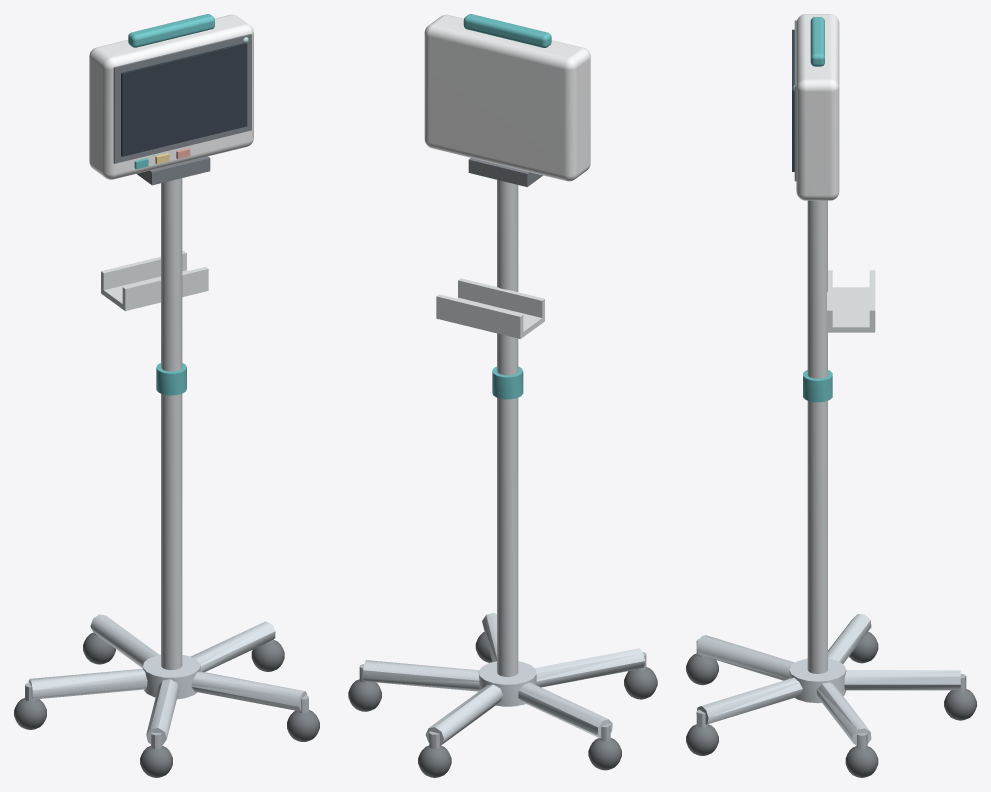
Rendered from monitor.glb.
3 renders of one model, left to right at view 1: azimuth 30°, elevation 25°; view 2: azimuth 150°, elevation 25°; view 3: azimuth 270°, elevation 25°, orthographic. The views are drawn at different scales.
Parts seen in each view (by area): view 1: stand, head, screen; view 2: stand, head; view 3: stand, head.
Boxes of the visible parts, x1,y1,x2,y2 form: stand: [14, 156, 319, 777]; head: [89, 14, 253, 179]; screen: [121, 43, 247, 156]; stand: [348, 158, 657, 777]; head: [424, 14, 590, 181]; stand: [686, 200, 976, 777]; head: [792, 14, 839, 200].
Bounding box in the file's own units: 0.6396 × 1.59 × 0.6116.
